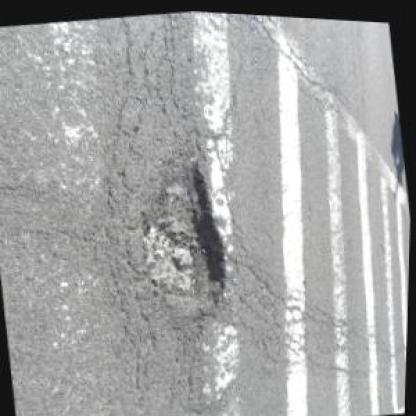pothole: (123, 143, 243, 344)
